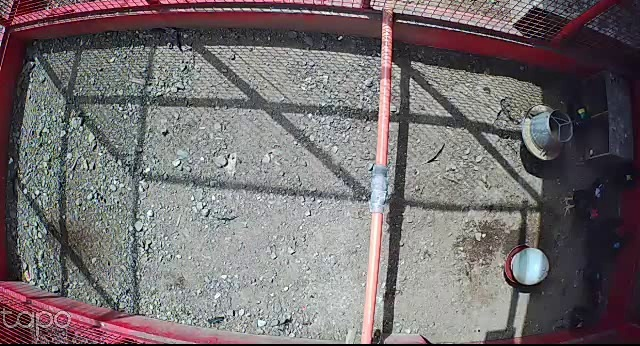Drinker: (503, 244, 550, 287)
Feeder: (522, 104, 574, 161)
Rooster: (558, 174, 609, 224)
Saddle_Color_YellowGreen: (579, 107, 586, 117)
